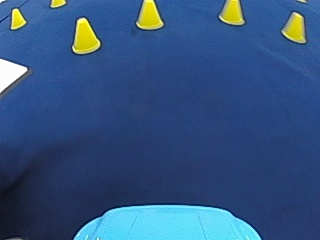cone: (71, 16, 100, 53), (135, 0, 164, 30), (280, 11, 307, 42), (217, 0, 245, 25), (9, 7, 26, 29)
